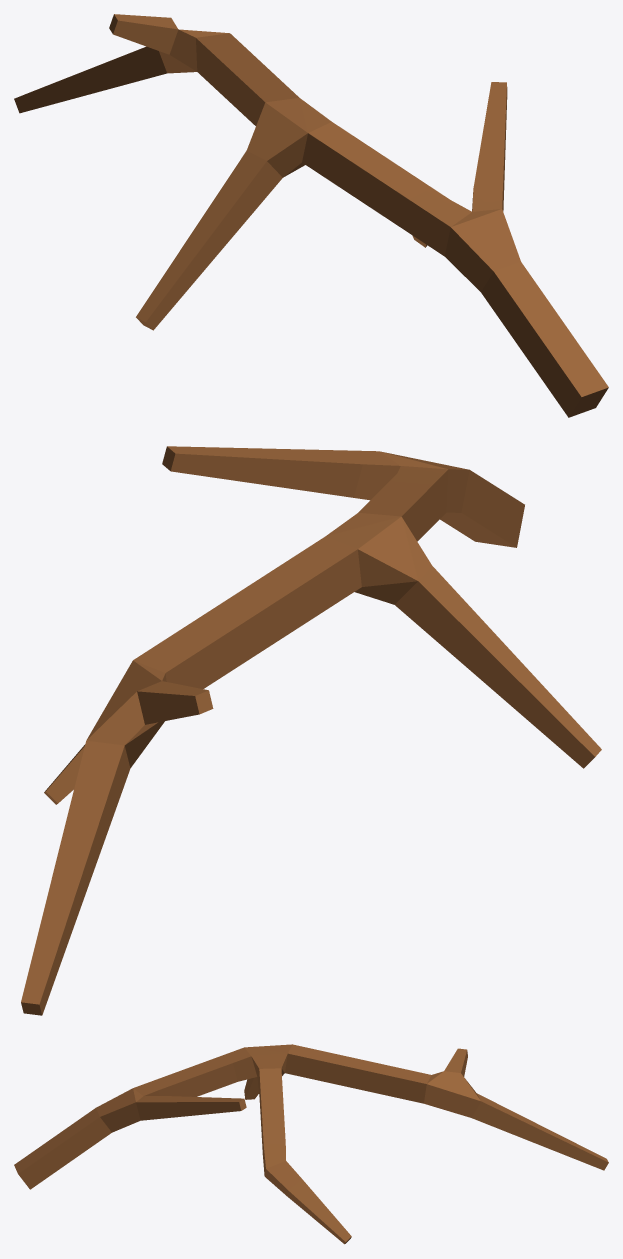
Rendered from branch1.fbx.
3 views of the same model, one above another, from view 1: azimuth 30°, elevation 25°; view 2: azimuth 150°, elevation 25°; view 3: azimuth 270°, elevation 25° (orthographic). The views are drawn at different scales.
Visible parts, largest first — view 1: Plane; view 2: Plane; view 3: Plane.
Part boxes in pixels (box(x1,y1,x2,y2)): Plane: box(14, 14, 608, 417); Plane: box(21, 446, 601, 1015); Plane: box(14, 1044, 608, 1244).
Size of the model in its own units: 75.22 by 44.21 by 169.
